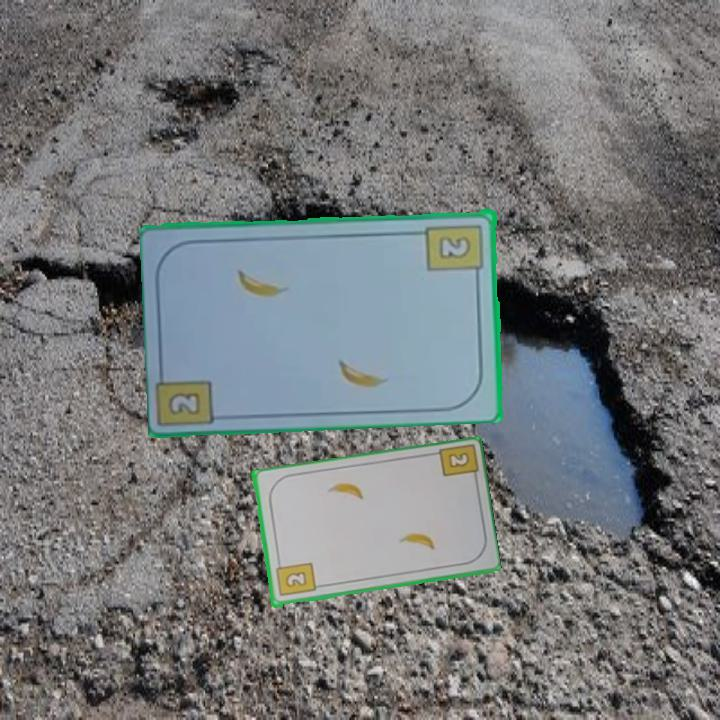2b: (423, 220, 486, 282), (433, 443, 479, 486), (272, 557, 318, 599), (164, 388, 204, 418)
